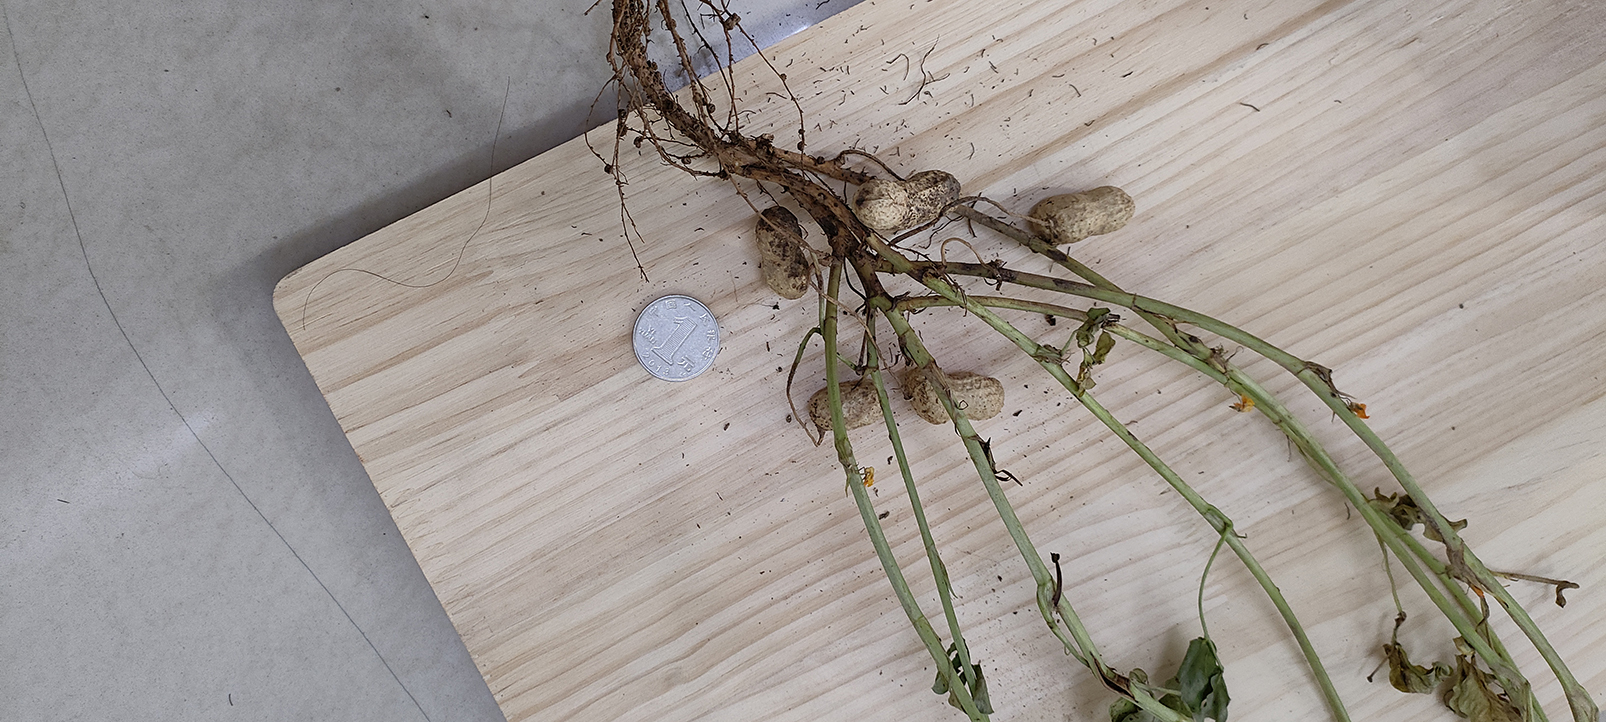h: (1028, 186, 1137, 246), (857, 171, 962, 230), (902, 370, 1007, 425), (805, 381, 888, 429)
l: (758, 206, 810, 298)
